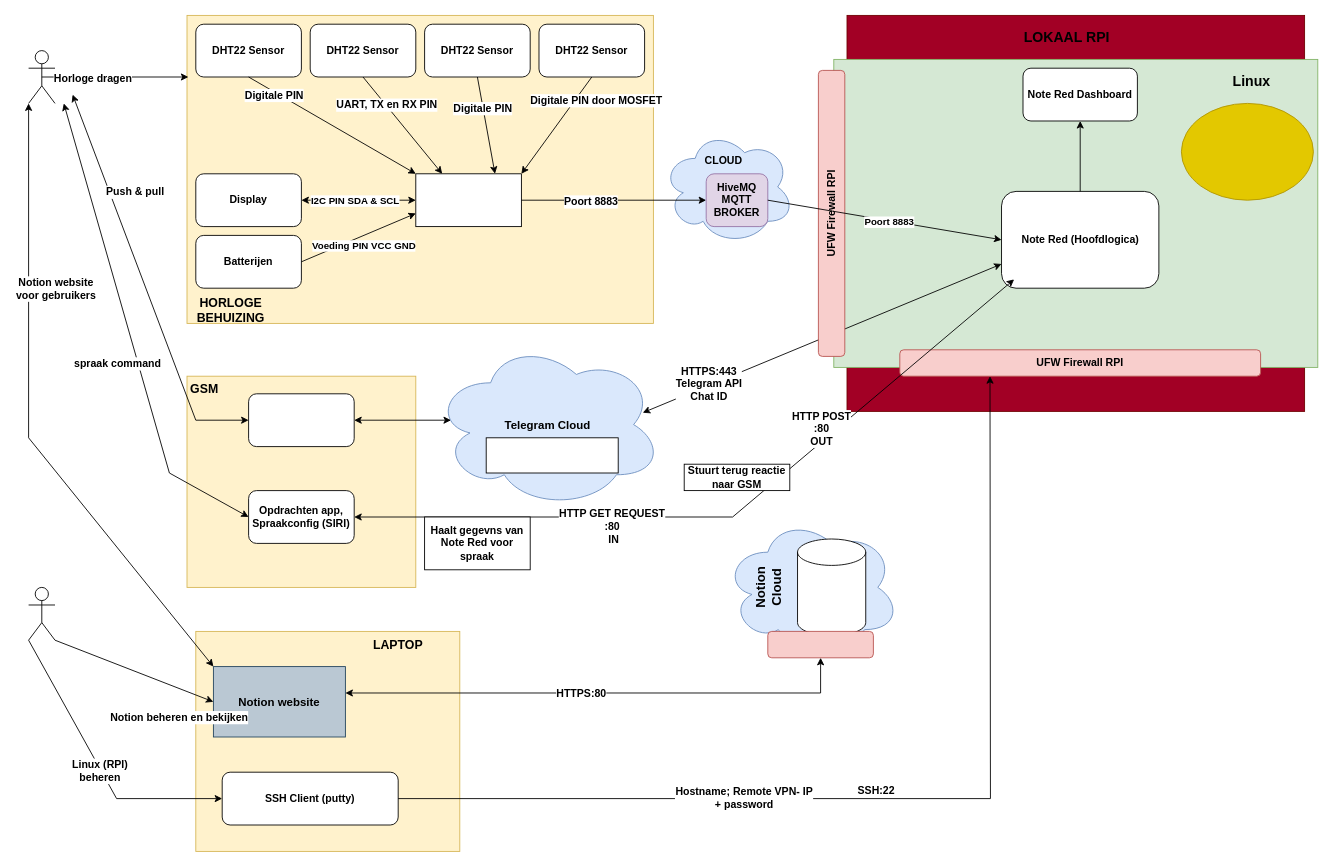
The diagram is 1333 pixels wide and 867 high, and some of its shapes have lost their labels. Here are the shapes that lost their labels. From the top down, the centre of each, then its label:
At point (41, 76): "Gebruiker".
At point (1247, 151): "Beveiligd door VPN, SSH (hostname en pass)".
At point (468, 200): "ESP32".
At point (301, 420): "Telegram app".
At point (551, 455): "krijgt waarschuwing binnen vanuit Note Red".
At point (831, 587): "Notion DB".
At point (41, 613): "Beheerder".
At point (820, 644): "Remote connecties".
